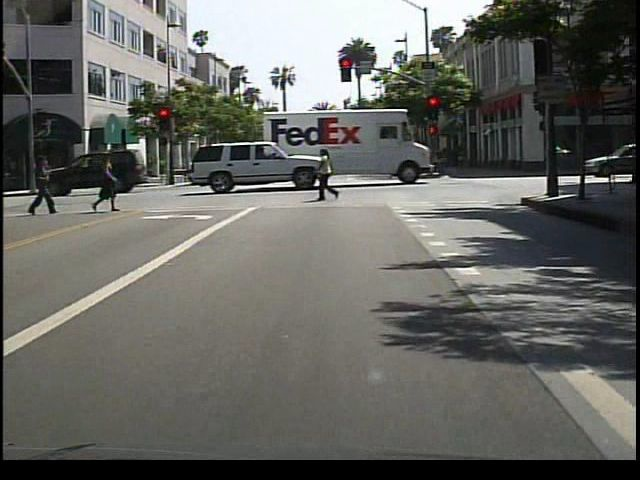person: (33, 153, 63, 215), (314, 147, 345, 206), (94, 152, 122, 215)
